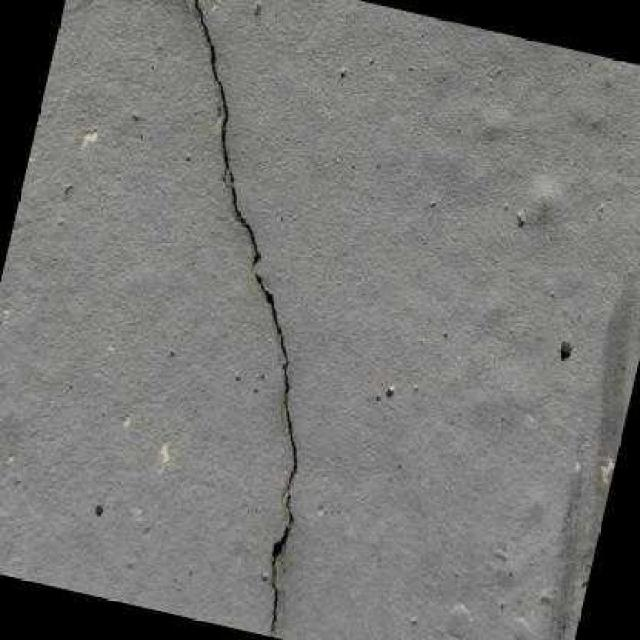D00: (194, 0, 298, 636)
